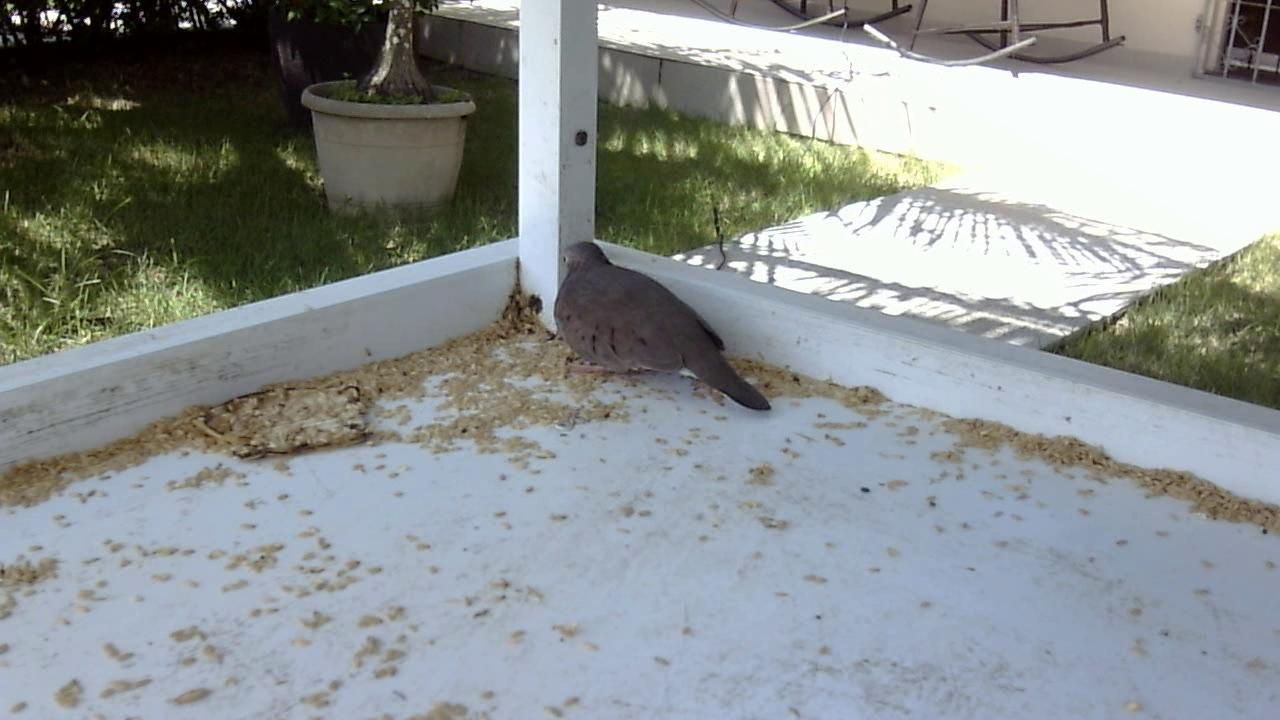rolinha: (542, 237, 778, 420)
